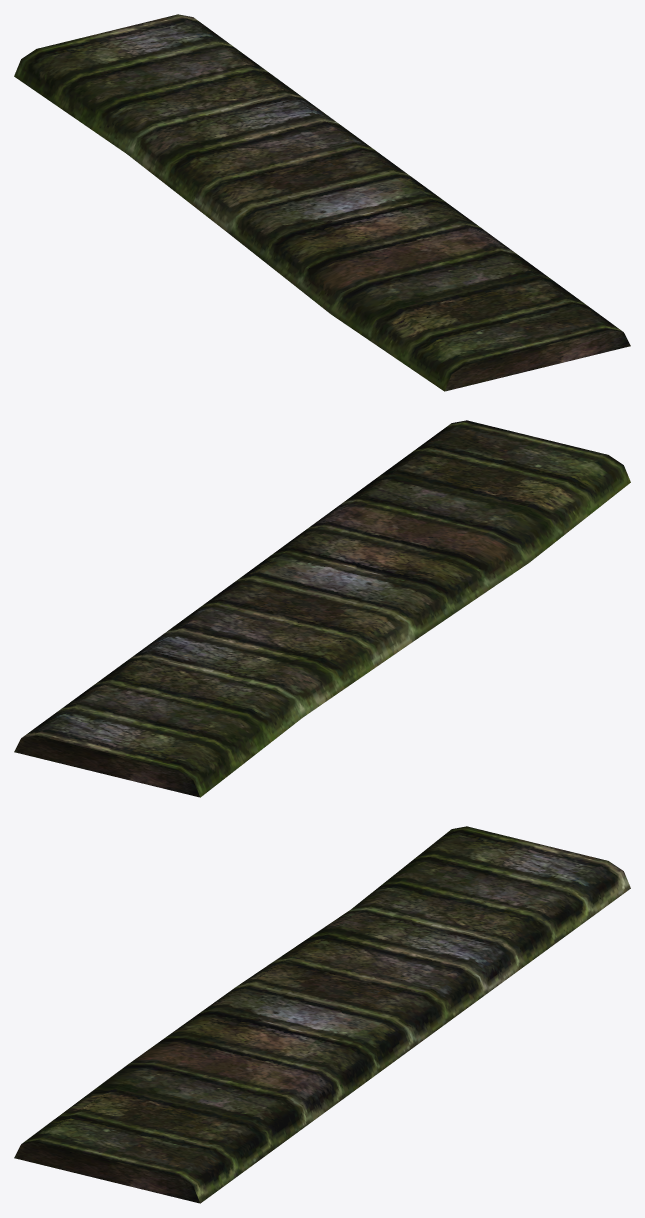
The model's file is brick_trim_4.DAE.
3 renders of one model, top to bottom at view 1: azimuth 30°, elevation 25°; view 2: azimuth 150°, elevation 25°; view 3: azimuth 330°, elevation 25°, orthographic.
Visible parts, largest first — view 1: brick_trim_4; view 2: brick_trim_4; view 3: brick_trim_4.
Boxes of the visible parts, bbox=[...] form: brick_trim_4: bbox=[14, 14, 630, 391]; brick_trim_4: bbox=[14, 420, 630, 797]; brick_trim_4: bbox=[14, 826, 630, 1203].
Bounding box in the file's own units: 0.5163 × 2 × 0.0566.
